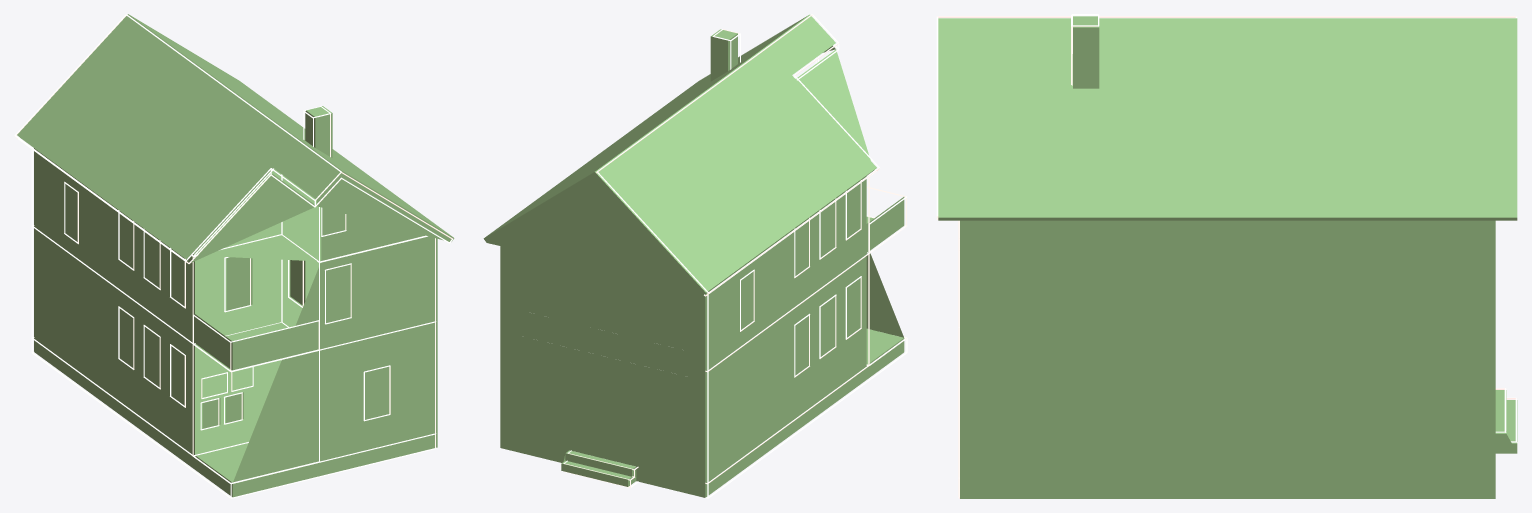
3 views of the same model, side by side, from view 1: azimuth 30°, elevation 25°; view 2: azimuth 150°, elevation 25°; view 3: azimuth 270°, elevation 25° (orthographic). The views are drawn at different scales.
Visible parts, largest first — view 1: haz_falak, haz_frame; view 2: haz_falak, haz_frame; view 3: haz_falak, haz_frame.
Boxes of the visible parts, x1,y1,x2,y2 form: haz_falak: (17,14,454,497); haz_frame: (14,14,452,498); haz_falak: (483,14,904,497); haz_frame: (503,14,907,498); haz_falak: (938,16,1517,498); haz_frame: (936,14,1517,498).
Size of the model in its own units: 242 by 329 by 401.
